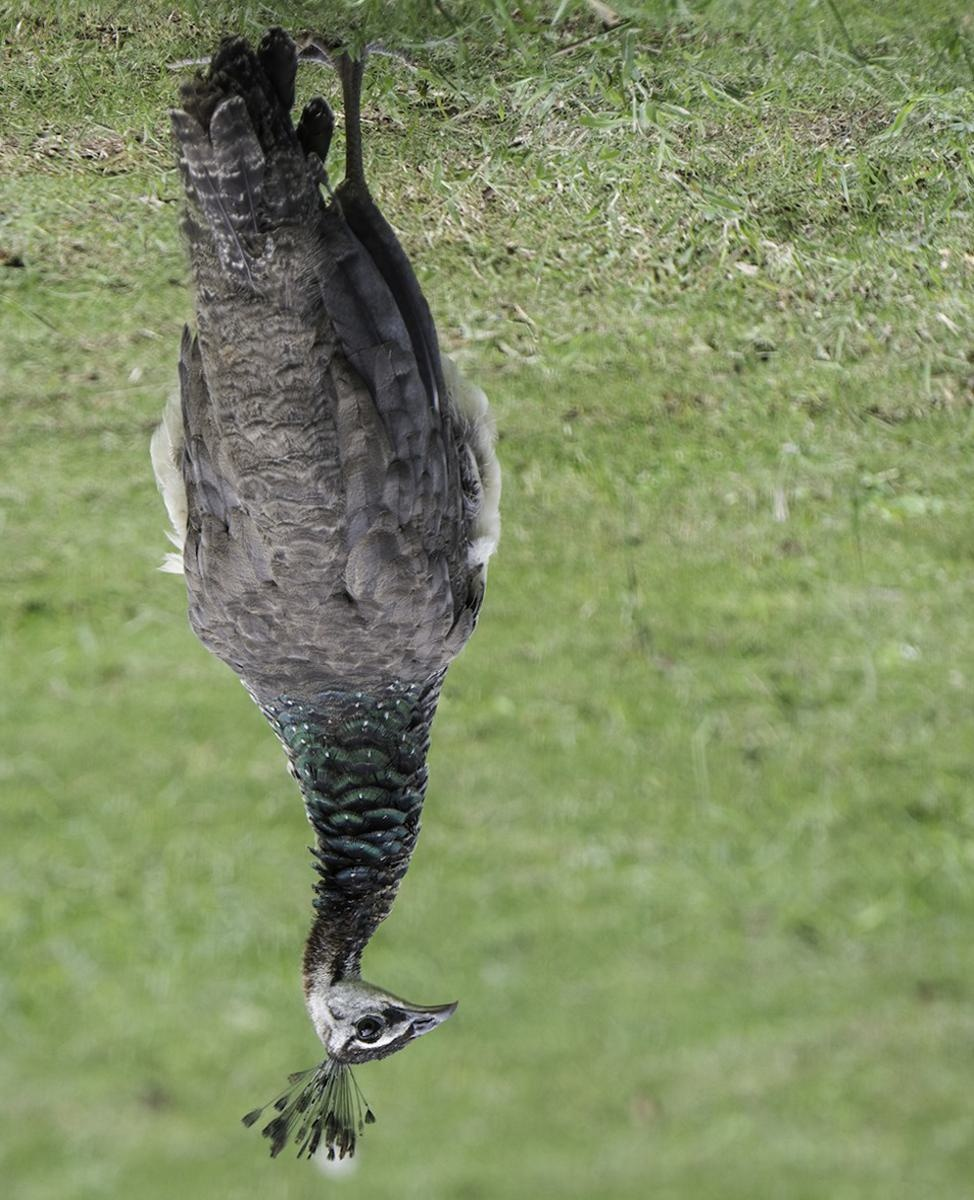peacock: (78, 25, 493, 1153)
